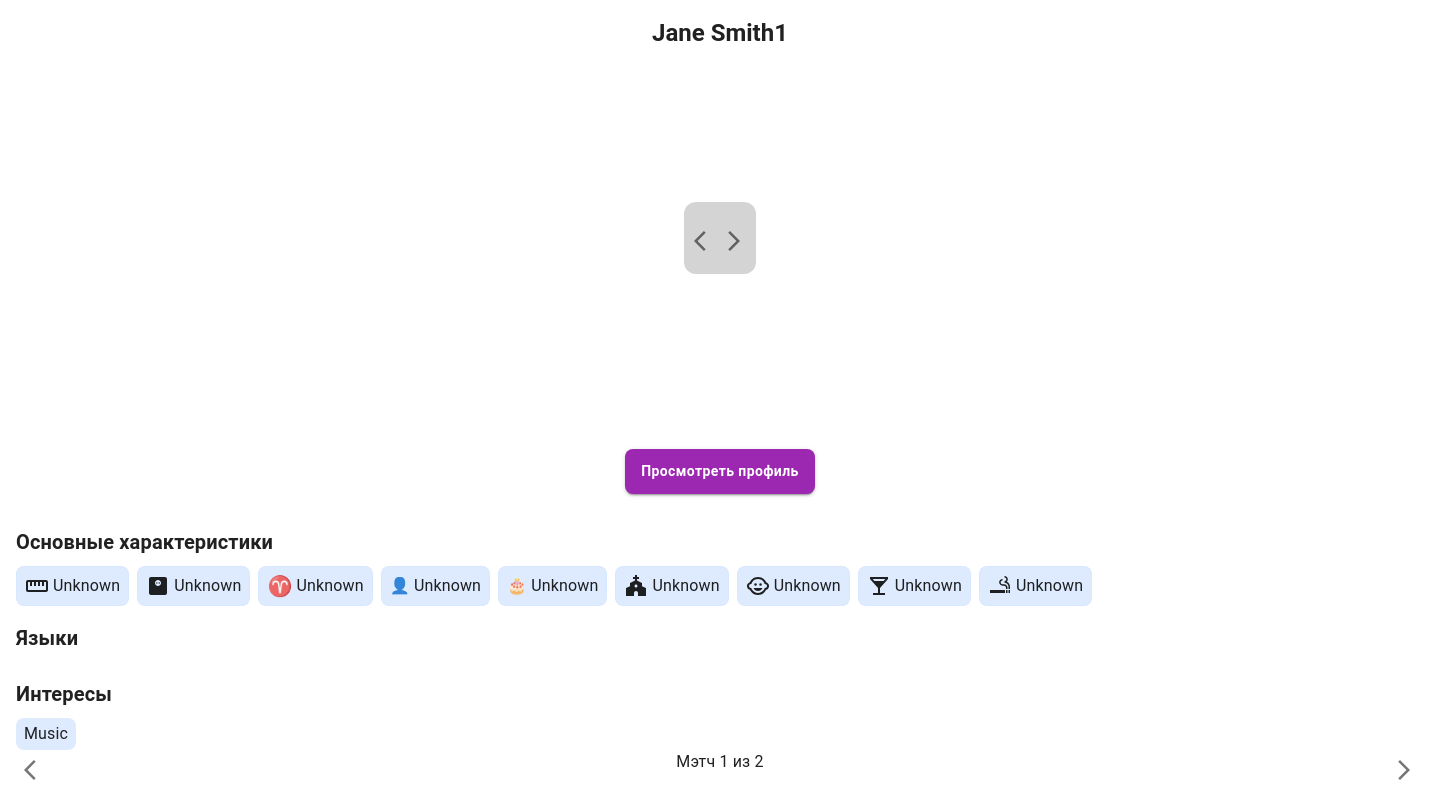
Test case: MatchesPage › navigates between matches
(page scrolled)
Click the button named "next match" at (1404, 770), box [1384, 750, 1424, 790]
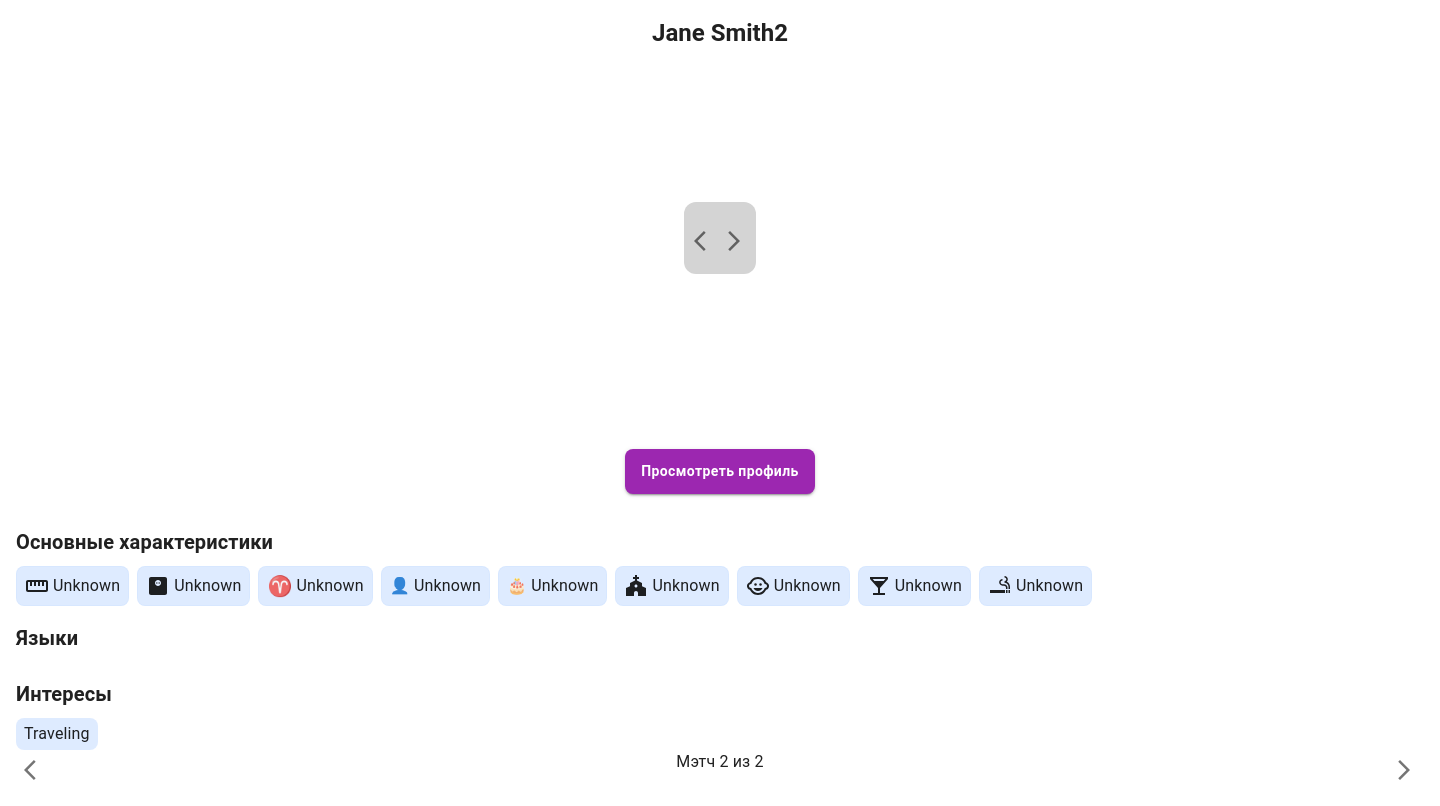
Expected: the heading "Jane Smith2" is shown, [652, 19, 788, 47]
Click the button named "previous match" at (36, 770), box [16, 750, 56, 790]
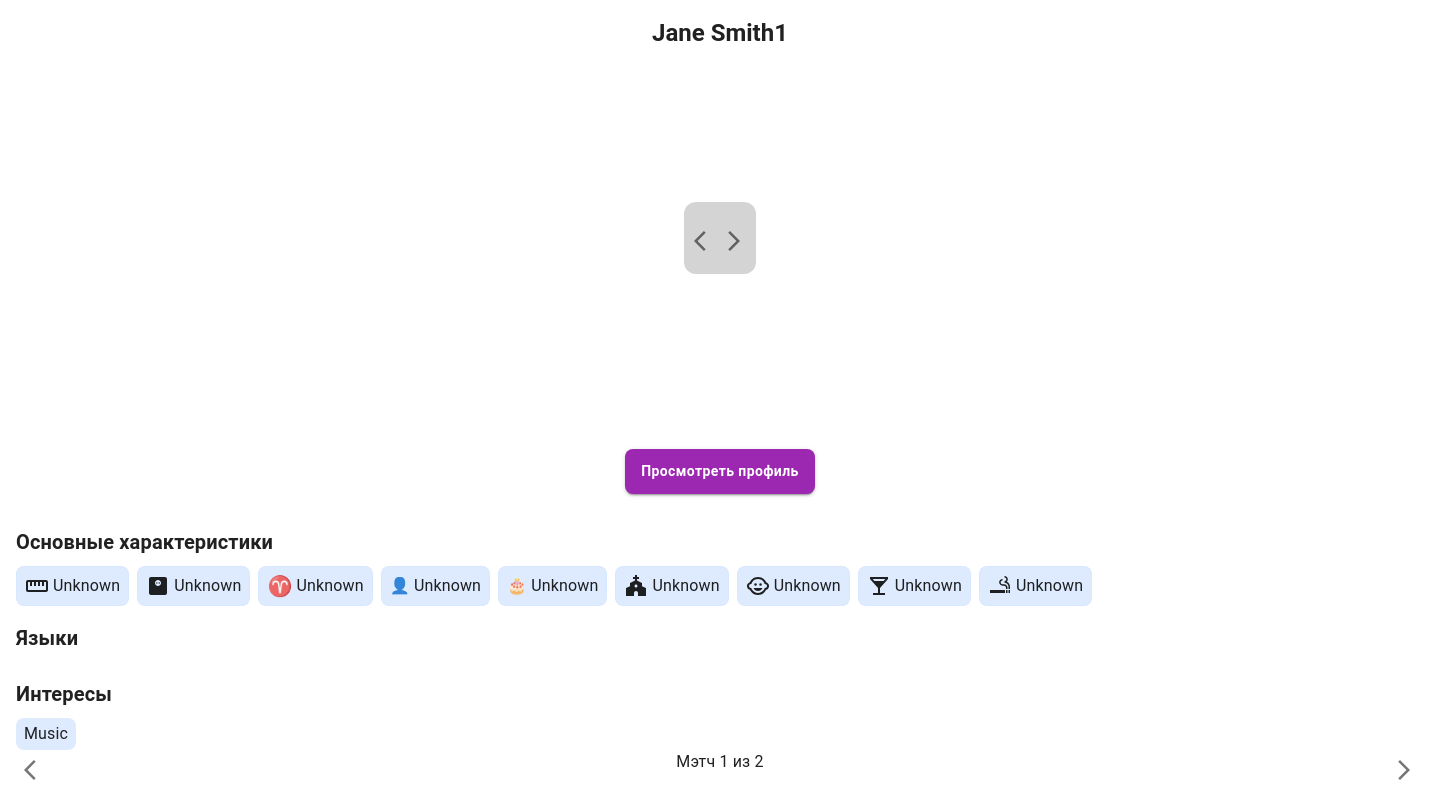
Expected: the heading "Jane Smith1" is shown, [652, 19, 788, 47]
